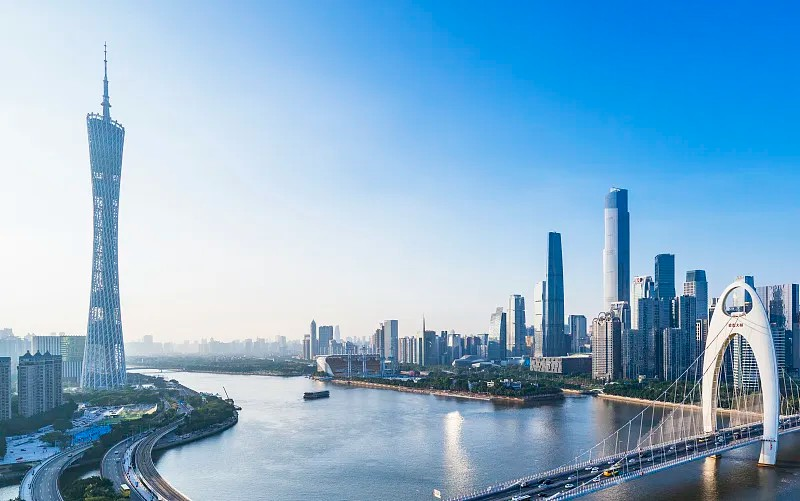Canton: (80, 40, 130, 393)
